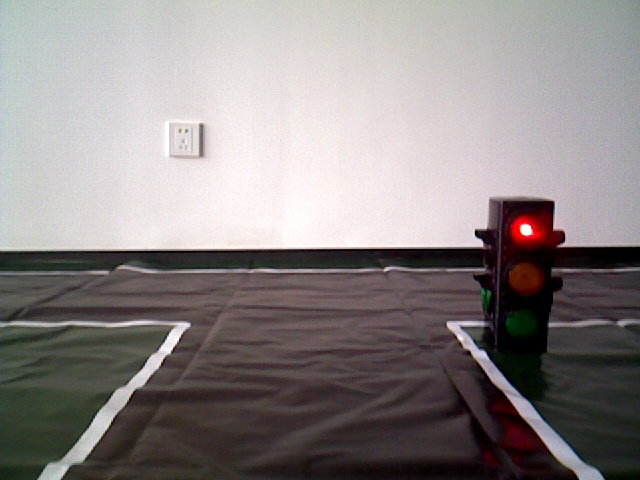red: (489, 200, 546, 351)
